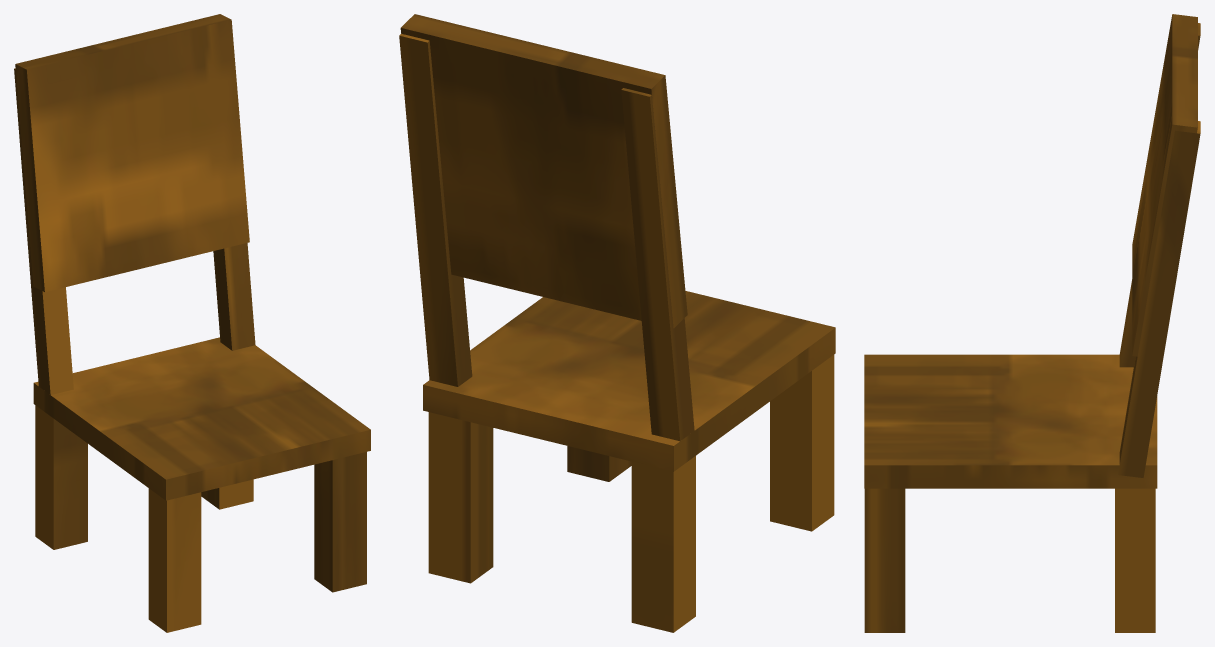
Rendered from chair.glb.
3 views of the same model, side by side, from view 1: azimuth 30°, elevation 25°; view 2: azimuth 150°, elevation 25°; view 3: azimuth 270°, elevation 25° (orthographic). The views are drawn at different scales.
Parts seen in each view (by area): view 1: Chair; view 2: Chair; view 3: Chair.
Boxes of the visible parts, <box> form: Chair: <box>14,14,370,632</box>; Chair: <box>399,14,835,632</box>; Chair: <box>864,14,1200,632</box>.
Bounding box in the file's own units: 1.36 × 2.93 × 1.75.
1 material, 1 textured.
